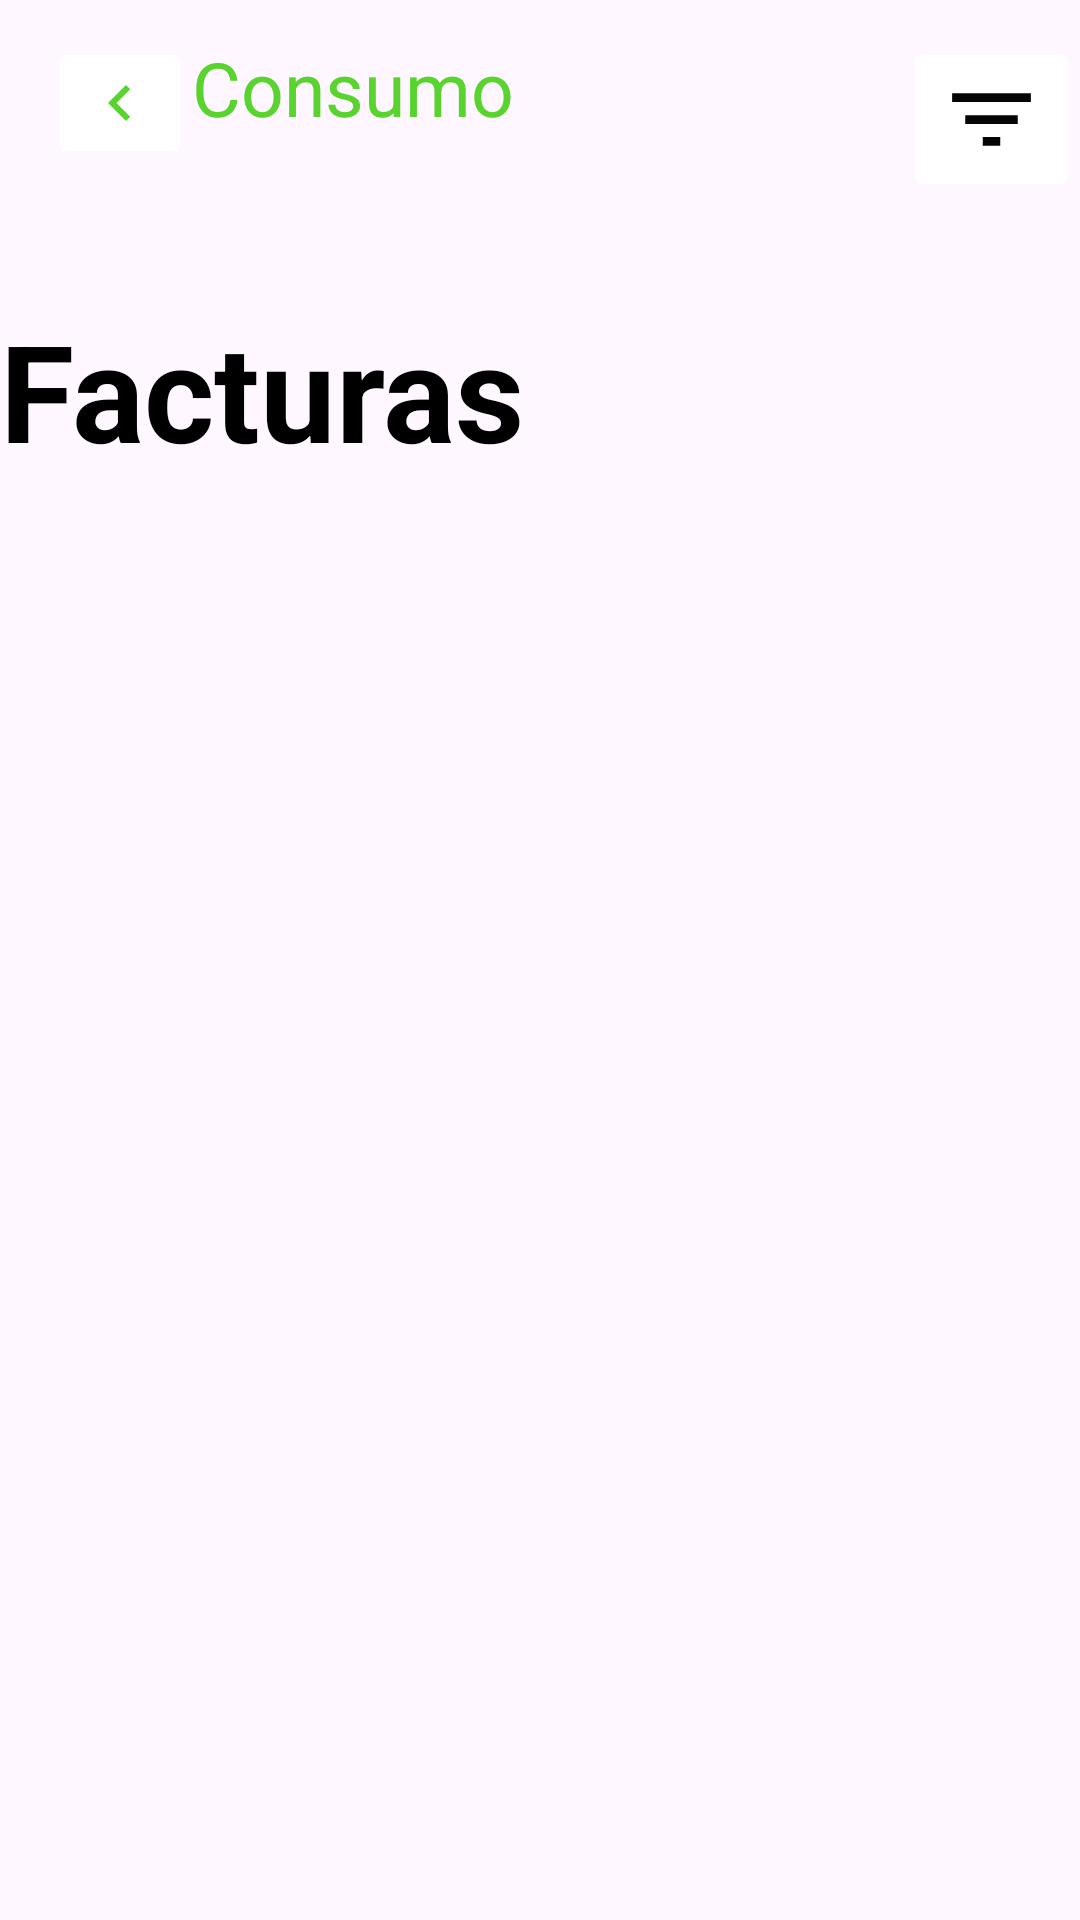

Named icons in this screenshot (1080×1920) and their centers, [x,y]:
before: [119,103]
filtrar: [991,119]
